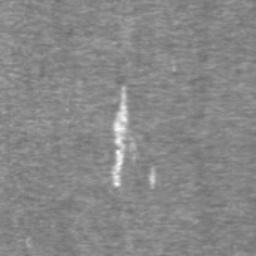White rust: (111, 85, 127, 188), (148, 164, 156, 189)
